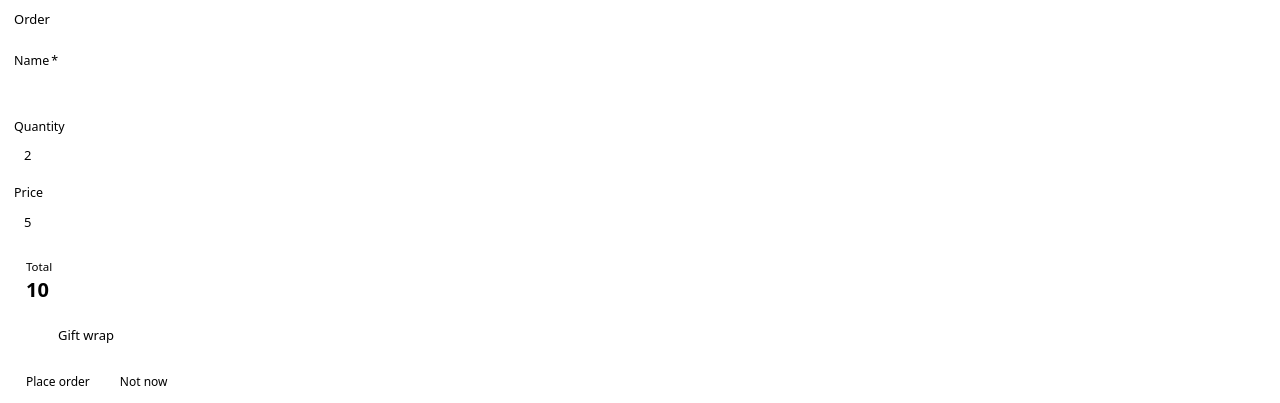
interaction › recomputes templates live as inputs change
Expected: the text with test id "genui-stat-value" reads "10", x1=26 y1=276 x2=49 y2=303
Step 1. Replace the text in the number field labelled "Quantity" with "4" → (640, 156), box x1=14 y1=140 x2=1266 y2=172
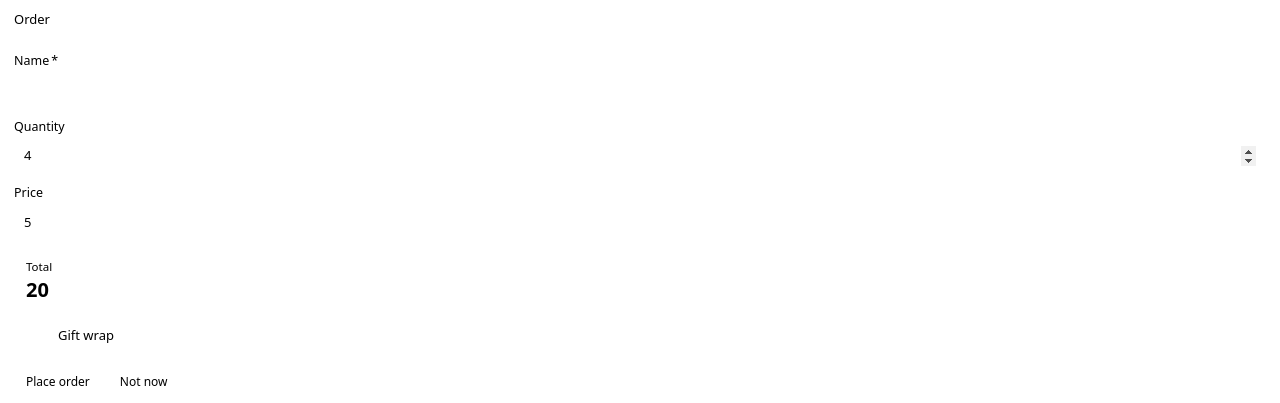
Now the text with test id "genui-stat-value" reads "20", box x1=26 y1=276 x2=49 y2=303
